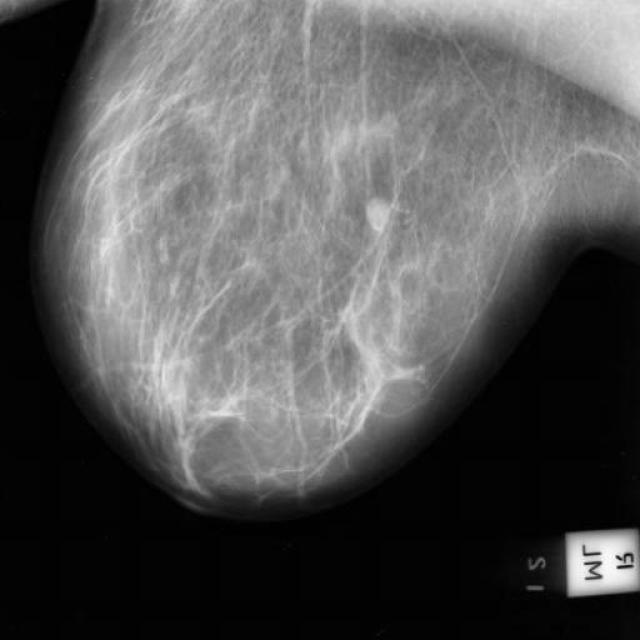cancer: (331, 375, 393, 455)
